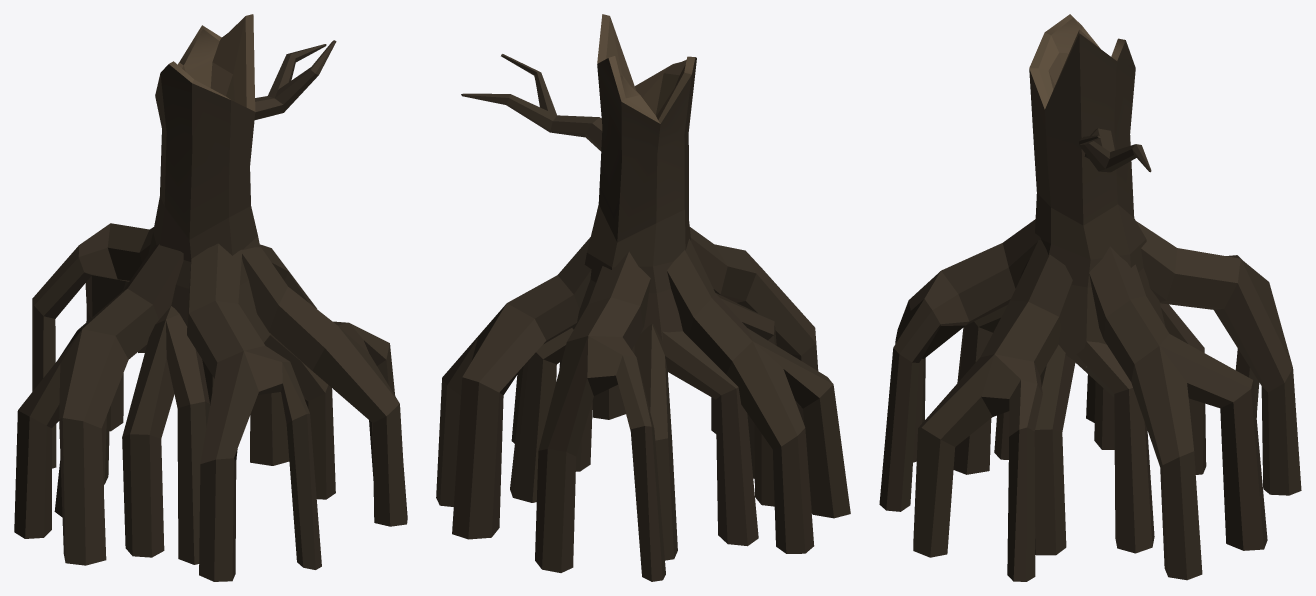
Rendered from synty-tree-swamp-stump-02.gltf.
The picture shows the model from 3 angles, left to right: view 1: azimuth 30°, elevation 25°; view 2: azimuth 150°, elevation 25°; view 3: azimuth 270°, elevation 25°; orthographic projection. The views are drawn at different scales.
Visible parts, largest first — view 1: SM_Tree_Swamp_Stump_02; view 2: SM_Tree_Swamp_Stump_02; view 3: SM_Tree_Swamp_Stump_02.
Part boxes in pixels (box(x1,y1,x2,y2)): SM_Tree_Swamp_Stump_02: box(14, 14, 407, 581); SM_Tree_Swamp_Stump_02: box(436, 14, 850, 581); SM_Tree_Swamp_Stump_02: box(879, 14, 1301, 581).
Size of the model in its own units: 1.88 by 2.52 by 1.96.
Materials: 1 (1 with a texture image).
